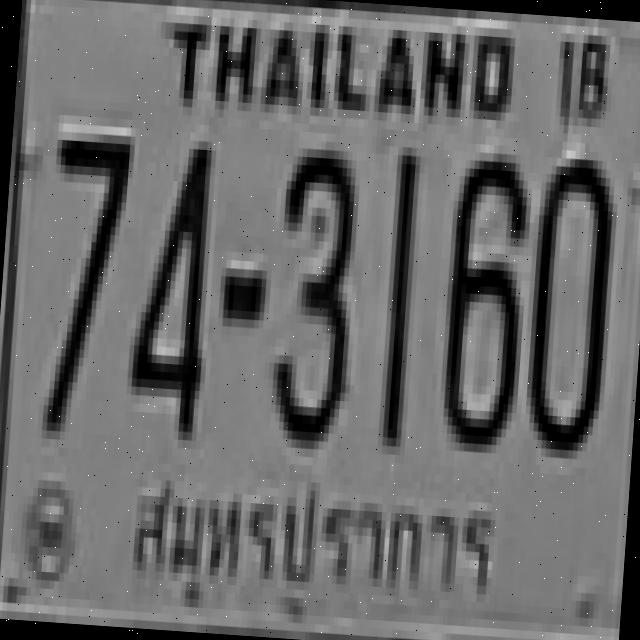0: (518, 148, 621, 457)
1: (373, 142, 416, 442)
3: (264, 138, 364, 454)
4: (123, 129, 219, 442)
6: (436, 142, 534, 453)
7: (37, 123, 131, 434)
SamutPrakan: (110, 467, 508, 628)
